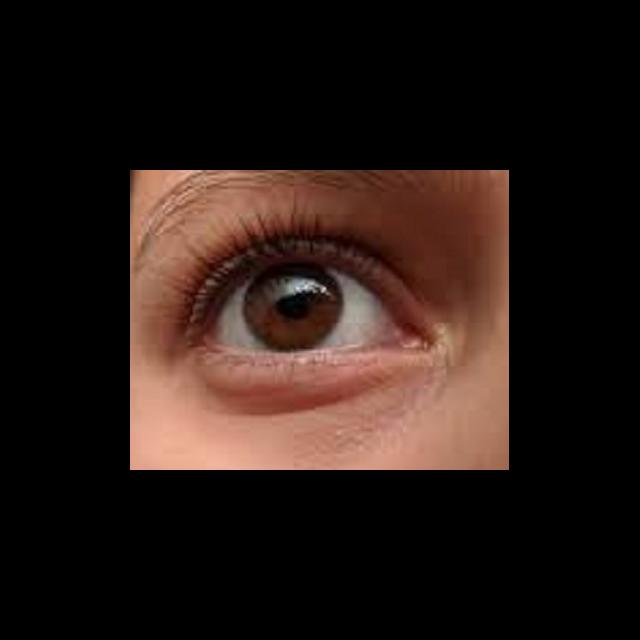eye: (206, 262, 401, 352)
iris: (245, 268, 343, 350)
